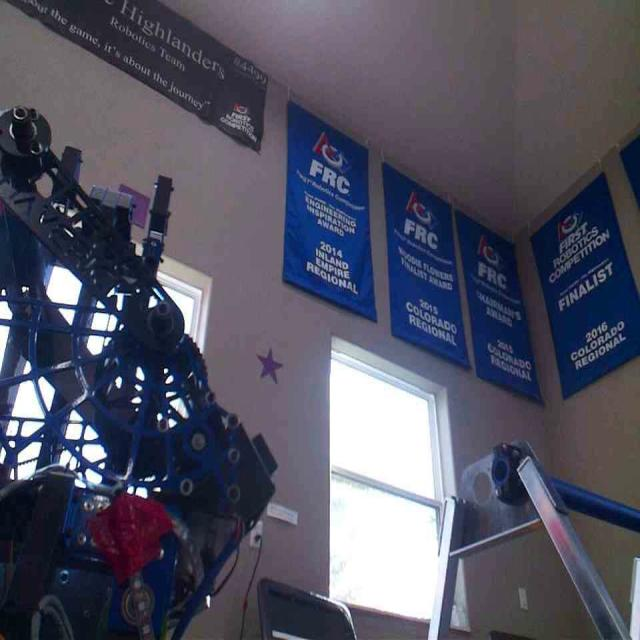star_purple: (256, 348, 284, 383)
